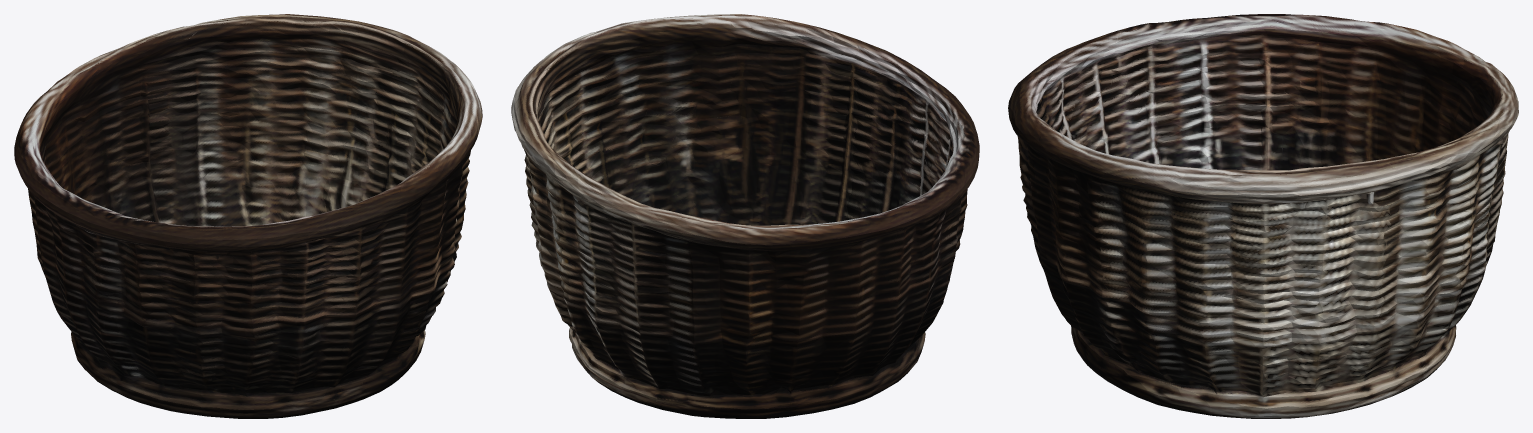
Rendered from woven-basket-file-holder-aged-hyperrealistic-furniture.jpeg.glb.
3 views of the same model, side by side, from view 1: azimuth 30°, elevation 25°; view 2: azimuth 150°, elevation 25°; view 3: azimuth 270°, elevation 25° (orthographic). The views are drawn at different scales.
Parts seen in each view (by area): view 1: world; view 2: world; view 3: world.
Part boxes in pixels (x1,y1,x2,y2): world: (14, 14, 482, 418); world: (511, 14, 979, 418); world: (1008, 14, 1518, 418).
Bounding box in the file's own units: 0.9994 × 0.5895 × 0.9996.
Materials: 1 (1 with a texture image).
